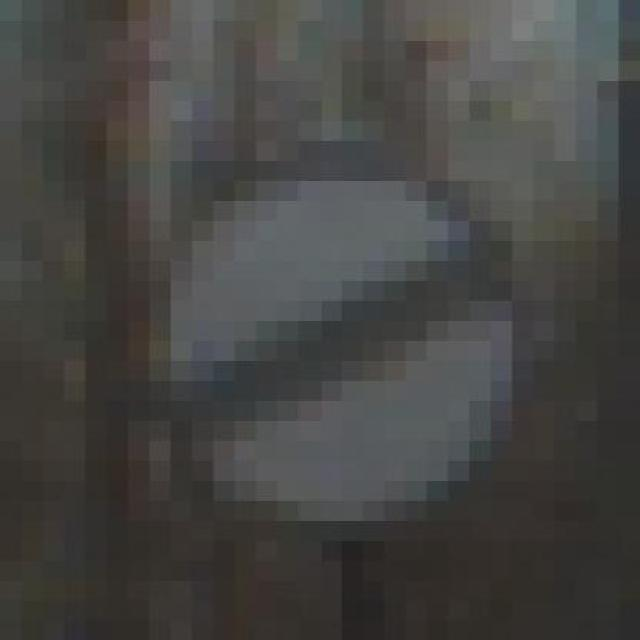End of all speed and passing limits: (128, 100, 555, 540)
